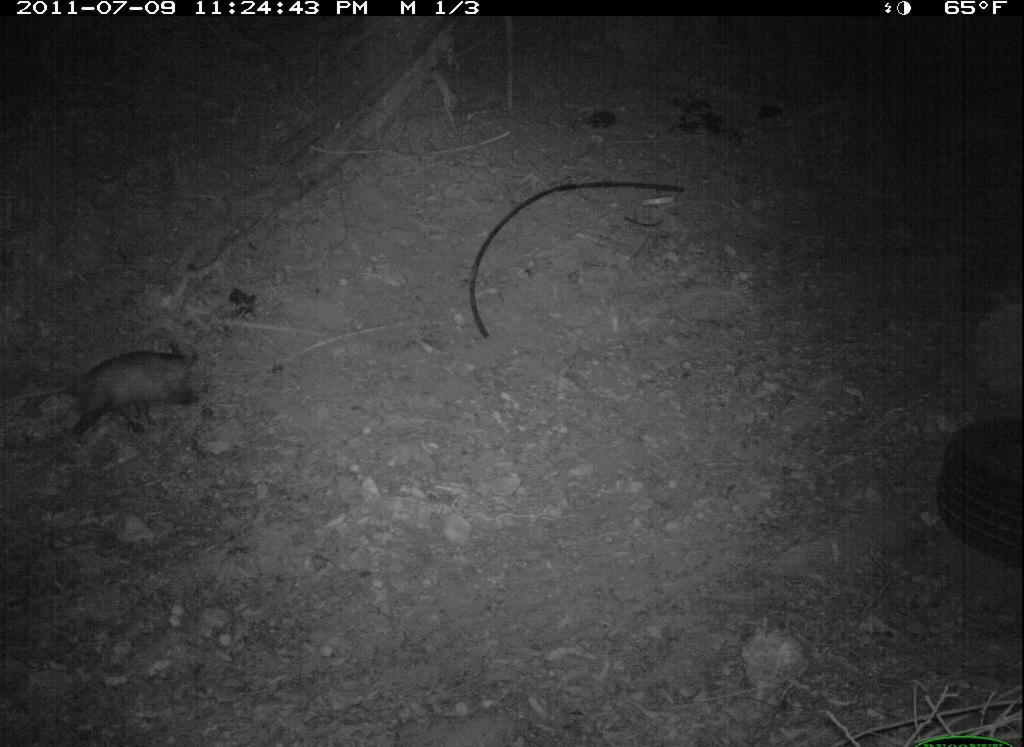opossum: (2, 347, 226, 445)
